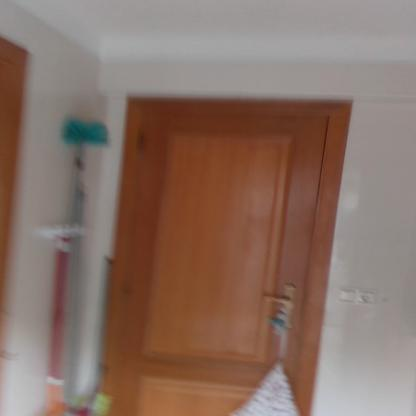door: (140, 110, 305, 416)
hinged: (134, 130, 148, 153), (122, 276, 133, 305)
lever: (260, 294, 295, 306)
